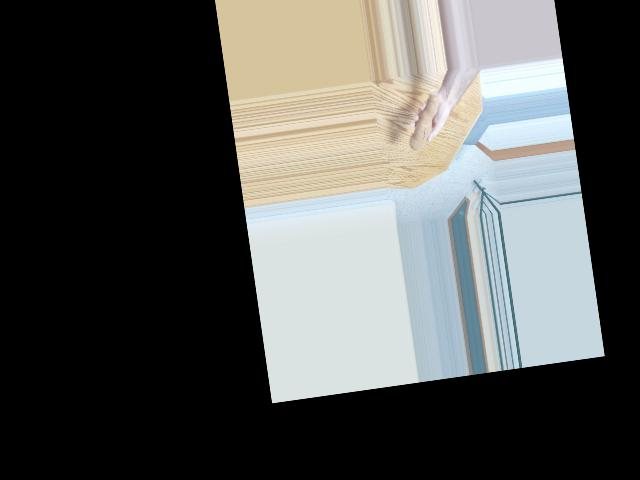sweet_potato: (402, 87, 450, 153)
